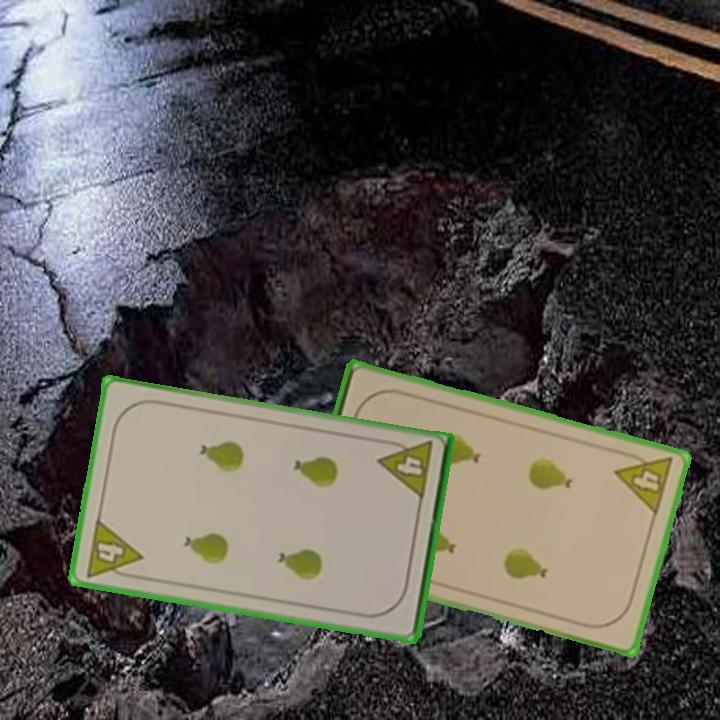4p: (611, 446, 677, 518), (81, 515, 145, 583), (375, 436, 435, 503)
